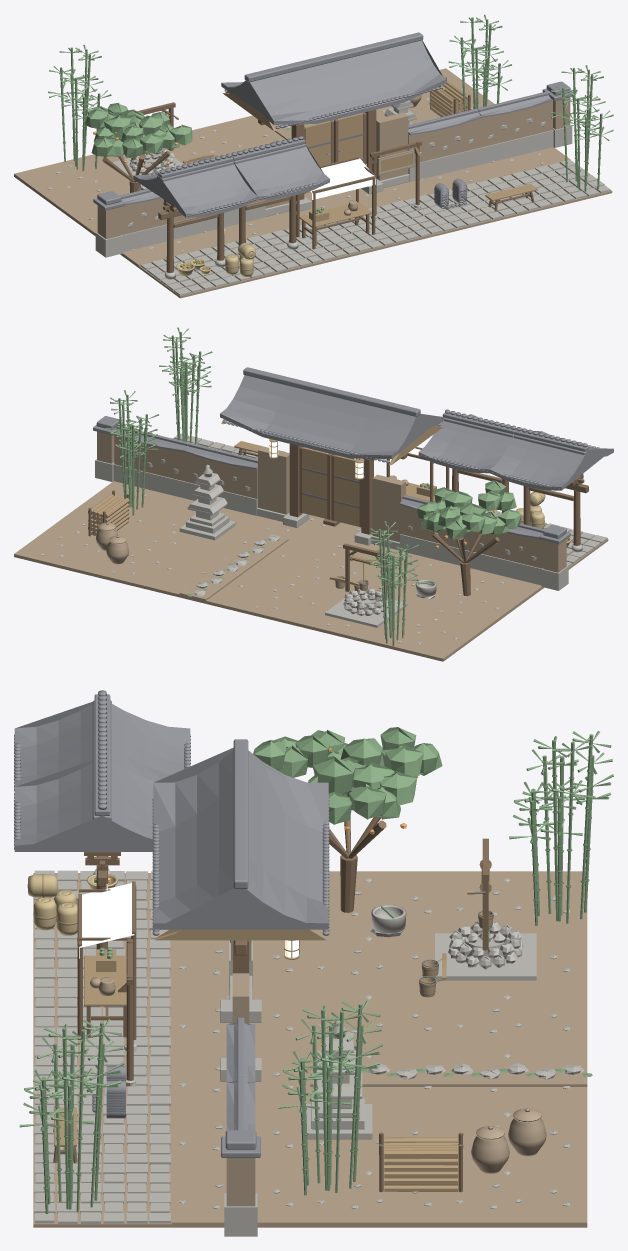
File: korean-hanok-village-and-street-village-gate-and-marke-813aa6fd__38092.glb
The picture shows the model from 3 angles, top to bottom: view 1: azimuth 30°, elevation 25°; view 2: azimuth 150°, elevation 25°; view 3: azimuth 270°, elevation 25°; orthographic projection. The views are drawn at different scales.
Parts seen in each view (by area): view 1: 030-village-gate-house/3, 041-persimmon-tree/1, 047-gabled-tile-roof-module/0, 048-gabled-tile-roof-module/0, 000-courtyard-ground-module/0, 021-stone-street-module/1, 023-stone-street-module/1, 057-bamboo-clump/0, 020-stone-street-module/1, 022-stone-street-module/1, 019-stone-street-module/1, 042-bamboo-clump/0 (+50 smaller); view 2: 030-village-gate-house/3, 041-persimmon-tree/1, 047-gabled-tile-roof-module/0, 030-village-gate-house/2, 048-gabled-tile-roof-module/0, 000-courtyard-ground-module/0, 006-courtyard-ground-module/0, 001-courtyard-ground-module/0, 012-courtyard-ground-module/0, 015-courtyard-ground-module/0, 007-courtyard-ground-module/0, 042-bamboo-clump/0 (+44 smaller); view 3: 030-village-gate-house/3, 041-persimmon-tree/1, 048-gabled-tile-roof-module/0, 047-gabled-tile-roof-module/0, 015-courtyard-ground-module/0, 006-courtyard-ground-module/0, 057-bamboo-clump/0, 043-bamboo-clump/0, 042-bamboo-clump/0, 004-courtyard-ground-module/0, 017-courtyard-ground-module/0, 023-stone-street-module/1 (+51 smaller).
Boxes of the visible parts, box(x1,y1,x2,y2) form: 030-village-gate-house/3: box(221, 32, 446, 128); 041-persimmon-tree/1: box(85, 102, 192, 157); 047-gabled-tile-roof-module/0: box(133, 158, 257, 217); 048-gabled-tile-roof-module/0: box(205, 140, 329, 199); 000-courtyard-ground-module/0: box(14, 156, 126, 206); 021-stone-street-module/1: box(362, 194, 466, 243); 023-stone-street-module/1: box(500, 159, 610, 208); 057-bamboo-clump/0: box(550, 65, 613, 191); 020-stone-street-module/1: box(284, 218, 394, 260); 022-stone-street-module/1: box(428, 177, 538, 225); 019-stone-street-module/1: box(212, 230, 322, 278); 042-bamboo-clump/0: box(48, 44, 111, 171); 030-village-gate-house/3: box(220, 367, 443, 463); 041-persimmon-tree/1: box(417, 480, 521, 539); 047-gabled-tile-roof-module/0: box(490, 431, 613, 490); 030-village-gate-house/2: box(258, 447, 405, 542); 048-gabled-tile-roof-module/0: box(418, 414, 541, 473); 000-courtyard-ground-module/0: box(371, 611, 484, 661); 006-courtyard-ground-module/0: box(228, 576, 340, 626); 001-courtyard-ground-module/0: box(413, 581, 525, 630); 012-courtyard-ground-module/0: box(85, 541, 197, 591); 015-courtyard-ground-module/0: box(14, 524, 126, 574); 007-courtyard-ground-module/0: box(270, 546, 376, 593); 042-bamboo-clump/0: box(366, 521, 419, 646); 030-village-gate-house/3: box(152, 739, 329, 935); 041-persimmon-tree/1: box(253, 727, 442, 824); 048-gabled-tile-roof-module/0: box(14, 760, 155, 851); 047-gabled-tile-roof-module/0: box(14, 701, 190, 791); 015-courtyard-ground-module/0: box(449, 1164, 587, 1227); 006-courtyard-ground-module/0: box(449, 988, 587, 1046); 057-bamboo-clump/0: box(19, 1019, 124, 1213); 043-bamboo-clump/0: box(278, 1000, 382, 1195); 042-bamboo-clump/0: box(509, 731, 613, 925); 004-courtyard-ground-module/0: box(310, 929, 448, 988); 017-courtyard-ground-module/0: box(171, 1164, 310, 1227); 023-stone-street-module/1: box(34, 1163, 170, 1223).
Bounding box in the file's own units: 19.58 × 5.79 × 12.99.
